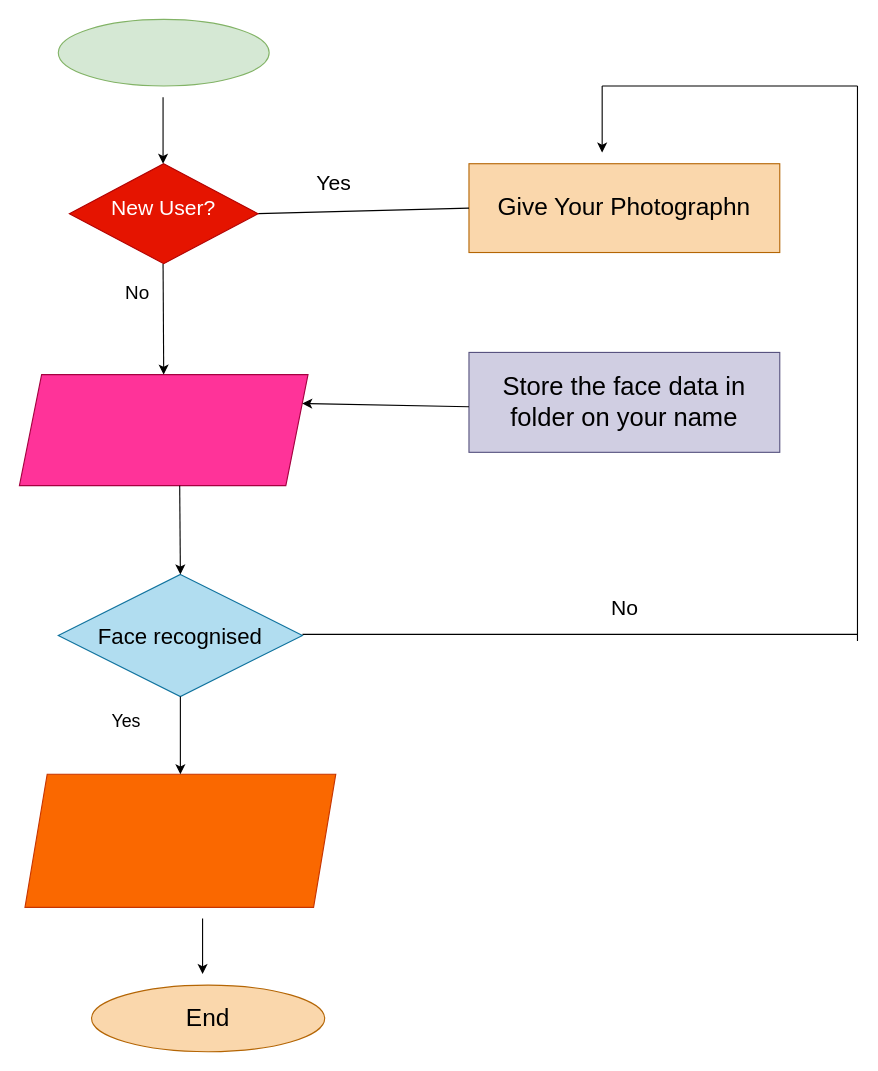
Image size: 878x1071. Some labels were removed from this diagram. The box of each missing label's shape, as (x1, y1, x2, y2) in pixels:
Recognise The Face: (18, 374, 308, 486)
Start: (57, 18, 269, 86)
Stored in CSV file with registration Number & Date time of Entry: (24, 773, 336, 907)
